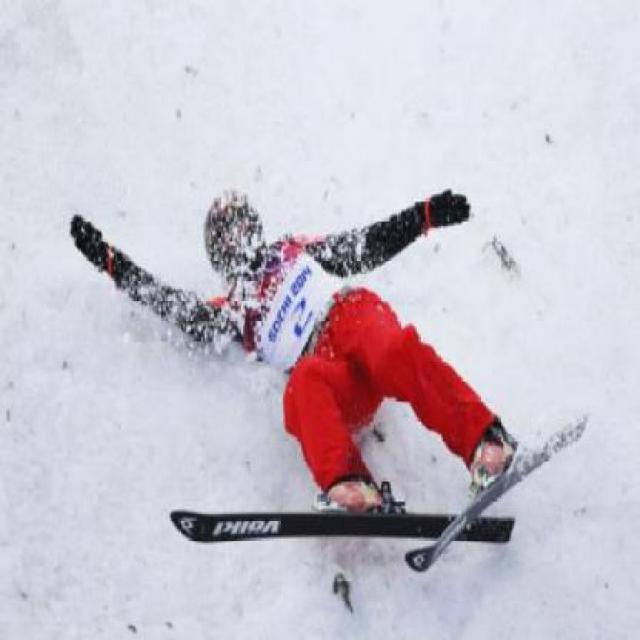fall: (97, 139, 546, 546)
